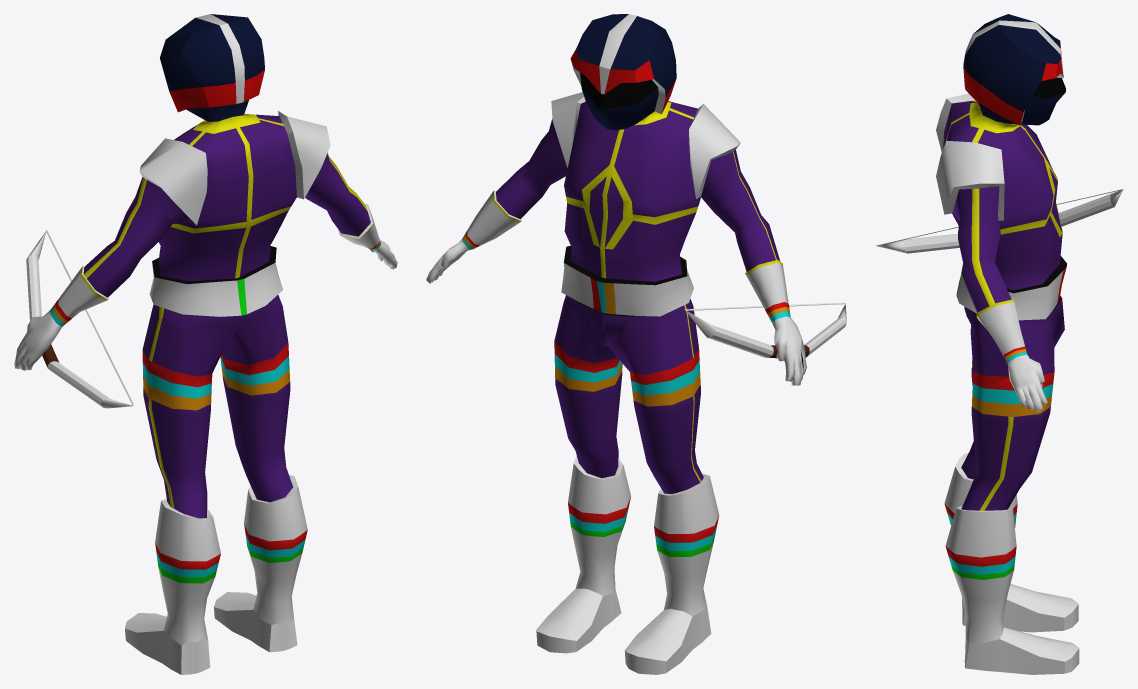
File: char_archer_alan.fbx
The picture shows the model from 3 angles, left to right: view 1: azimuth 30°, elevation 25°; view 2: azimuth 150°, elevation 25°; view 3: azimuth 270°, elevation 25°; orthographic projection.
Parts seen in each view (by area): view 1: pCylinder35; view 2: pCylinder35; view 3: pCylinder35.
Part boxes in pixels (x1,y1,x2,y2): pCylinder35: (14, 14, 397, 674); pCylinder35: (426, 14, 846, 674); pCylinder35: (876, 14, 1123, 674).
Size of the model in its own units: 6.28 by 9.95 by 3.6.
